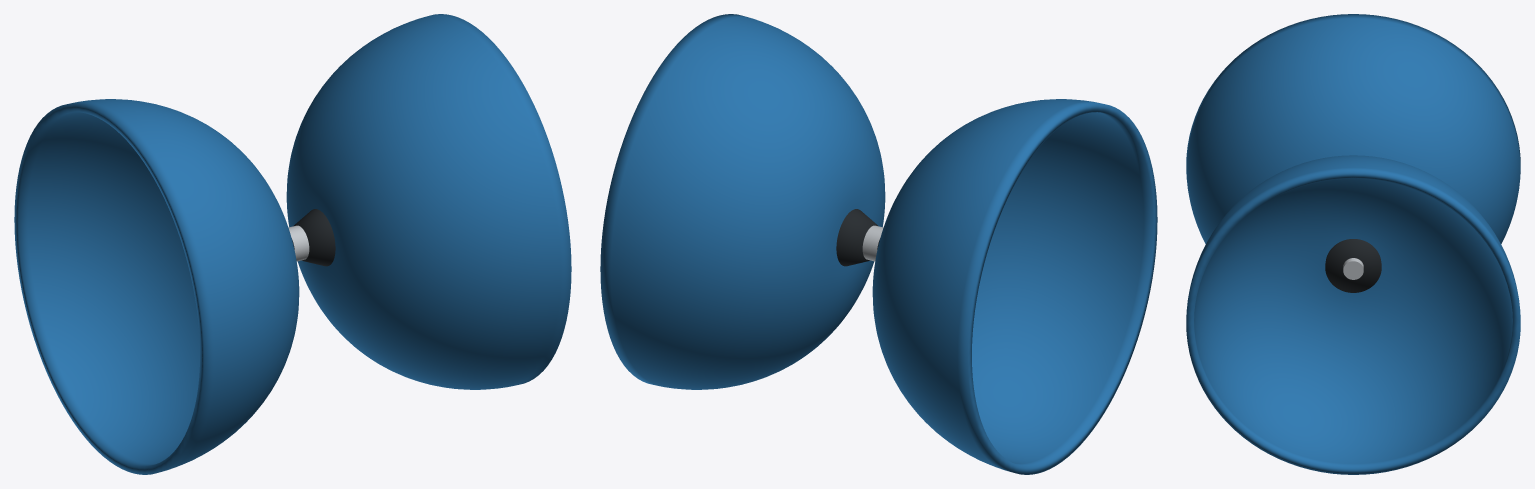
File: full.glb
3 renders of one model, left to right at view 1: azimuth 30°, elevation 25°; view 2: azimuth 150°, elevation 25°; view 3: azimuth 270°, elevation 25°, orthographic. The views are drawn at different scales.
Parts seen in each view (by area): view 1: Left hollow outward cup, Right hollow outward cup, Right conical hub; view 2: Left hollow outward cup, Right hollow outward cup, Right conical hub; view 3: Right hollow outward cup, Left hollow outward cup, Right conical hub, Continuous central axle.
Part boxes in pixels (box(x1,y1,x2,y2)): Left hollow outward cup: box(14, 99, 299, 474); Right hollow outward cup: box(286, 14, 571, 389); Right conical hub: box(293, 209, 335, 266); Left hollow outward cup: box(872, 99, 1157, 474); Right hollow outward cup: box(600, 14, 885, 389); Right conical hub: box(836, 209, 878, 266); Right hollow outward cup: box(1186, 155, 1520, 474); Left hollow outward cup: box(1186, 14, 1520, 243); Right conical hub: box(1325, 239, 1381, 292); Continuous central axle: box(1343, 258, 1363, 279).
Bounding box in the file's own units: 0.145 × 0.13 × 0.13.
